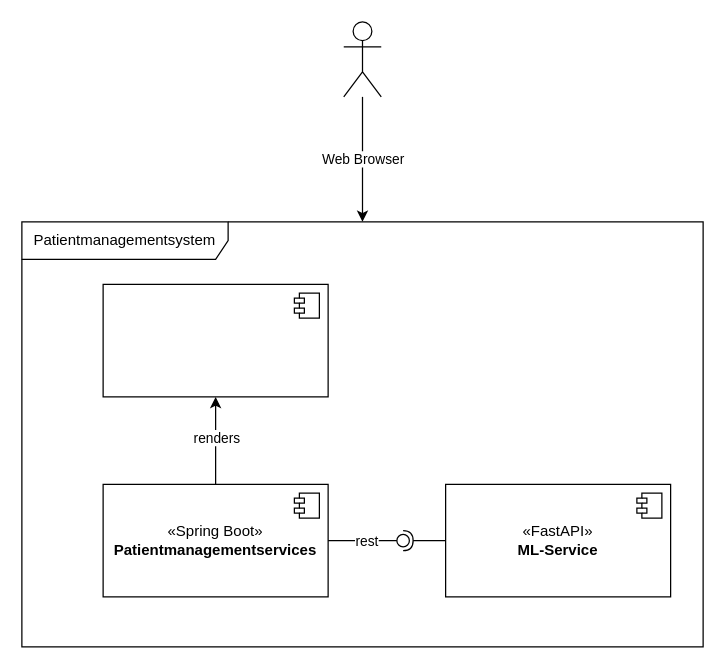
The diagram is 725 pixels wide and 669 high, and some of its shapes have lost their labels. The shapes that lost their labels are listed below. From the top down, each one's centre as x and y in pixels, then its label:
At point (361, 59): "User".
At point (215, 340): "«Thymeleaf» Frontend".
